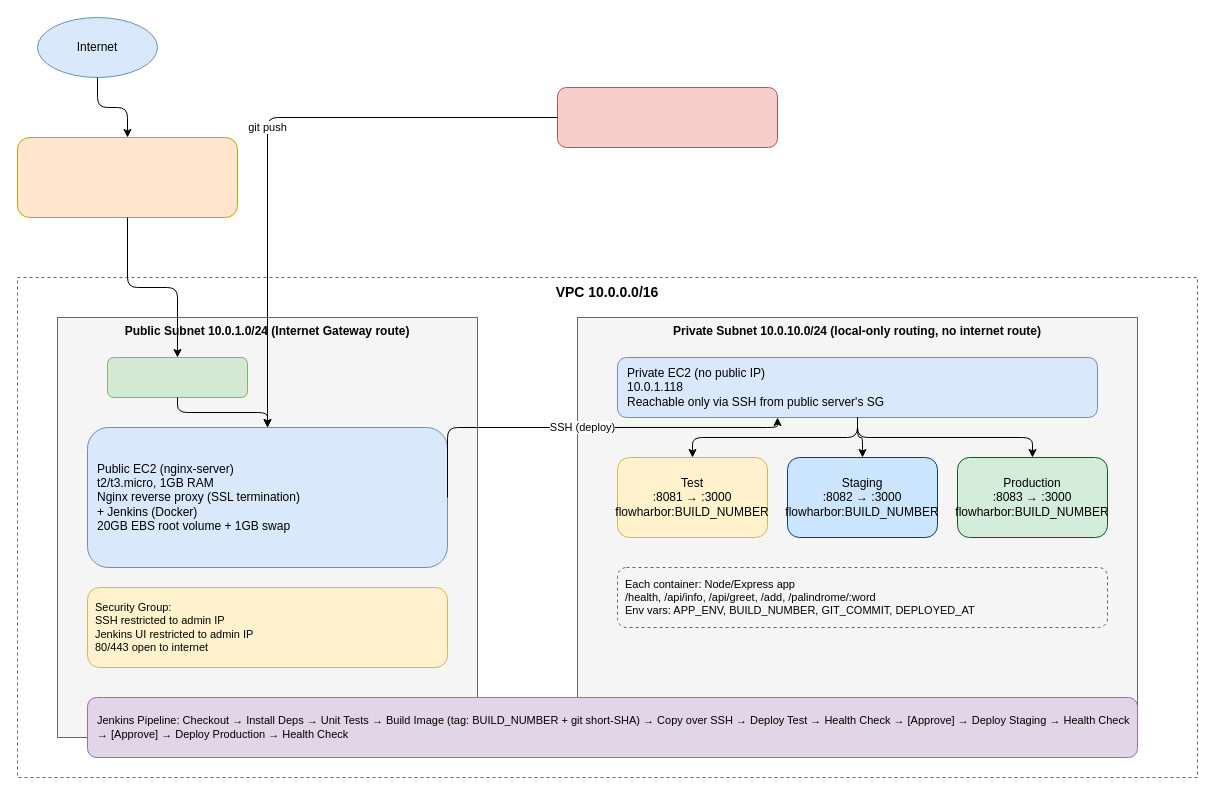
Some shapes in this 1215 by 795 pixel diagram are drawn without their labels. Each missing label, with the centre of its shape:
"Cloudflare DNS HTTPS (Full Strict) flowharbor.in / testing / staging / jenkins" goes at pixel 127 177.
"Elastic IP" goes at pixel 177 377.
"GitHub github.com/rishabh-yadav11/flowharbor" goes at pixel 667 117.
